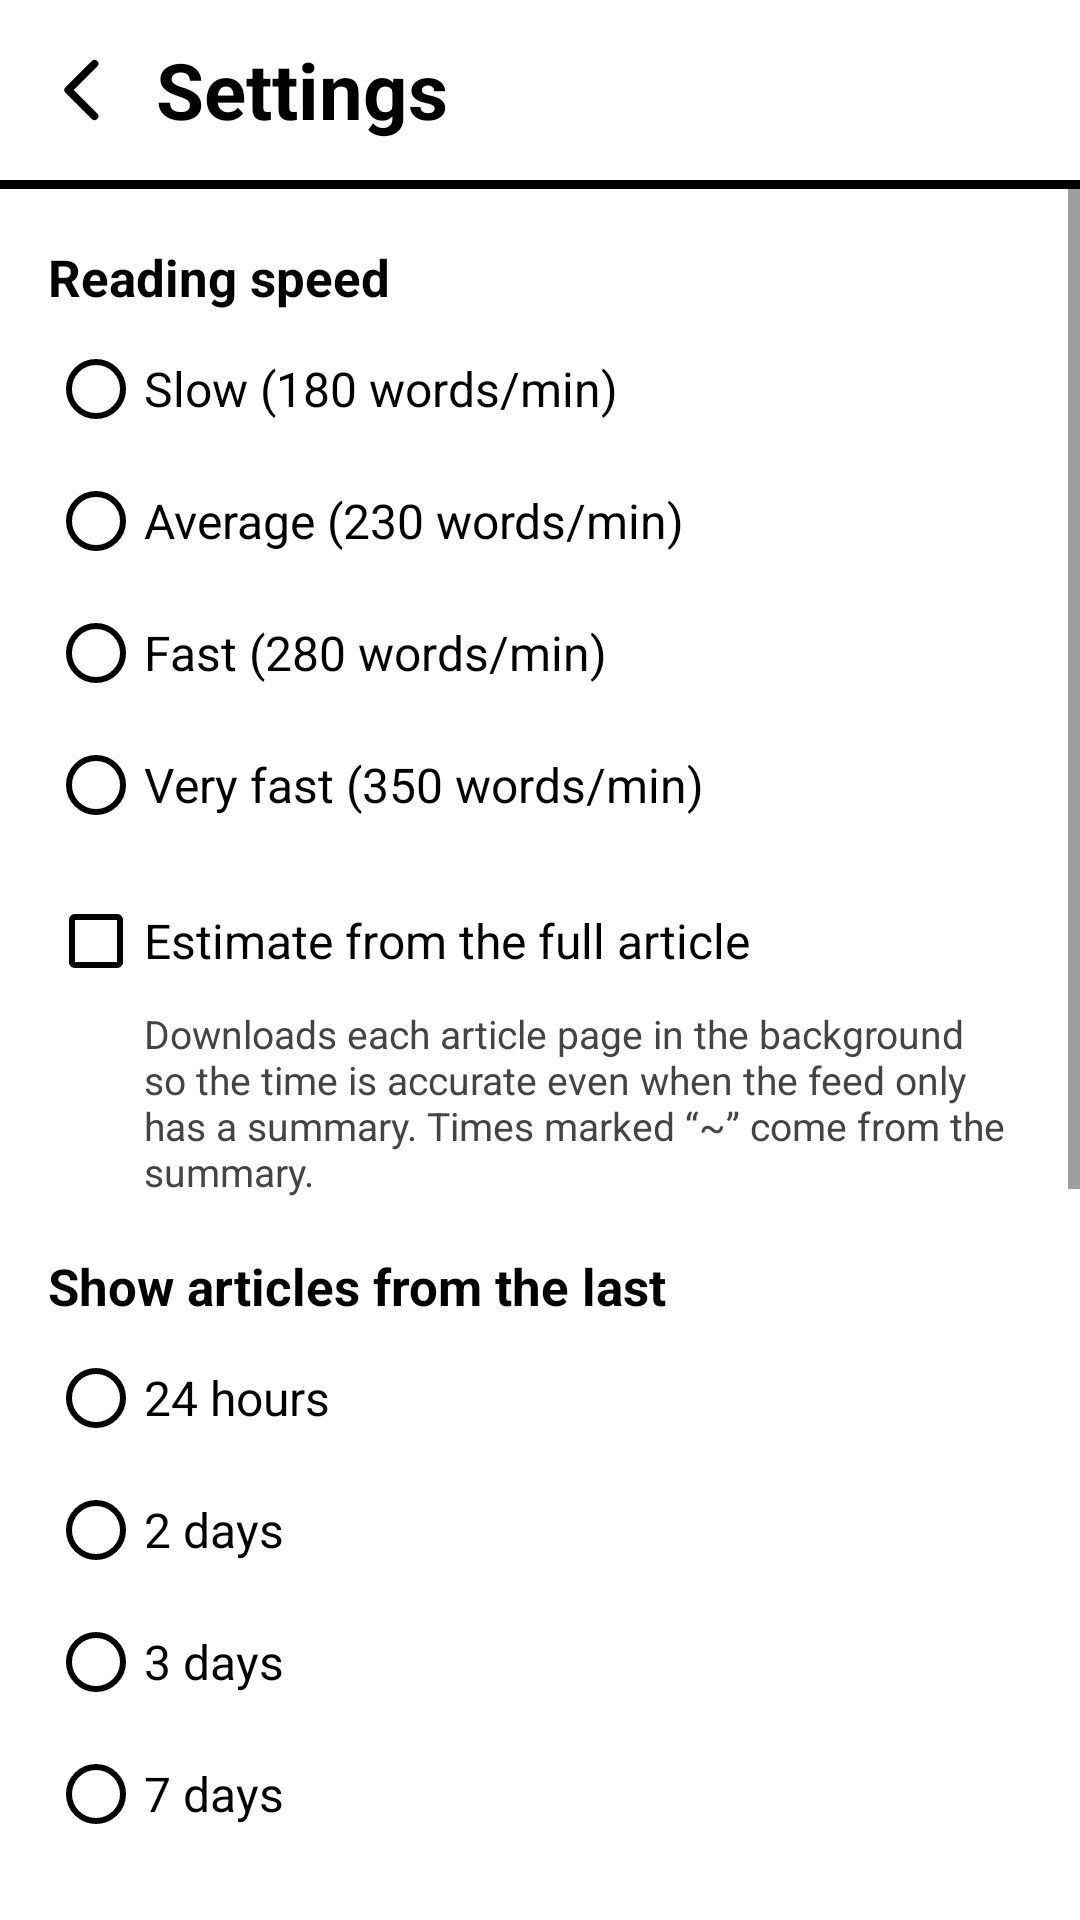

Icons on this 1080*1920 Android screen, each with the point to tap as (x=x, y=y):
Back: (x=81, y=90)
